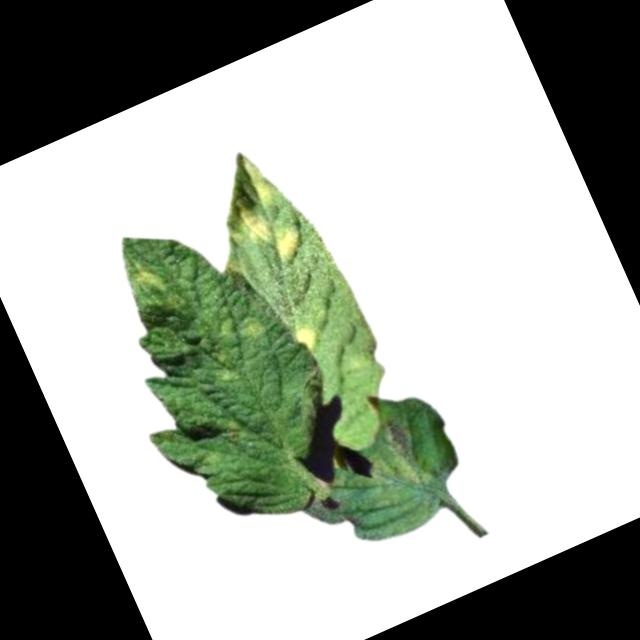Leaf_Mold: (212, 141, 311, 277), (360, 414, 435, 502), (128, 265, 167, 302), (287, 322, 320, 357), (235, 318, 264, 345)
